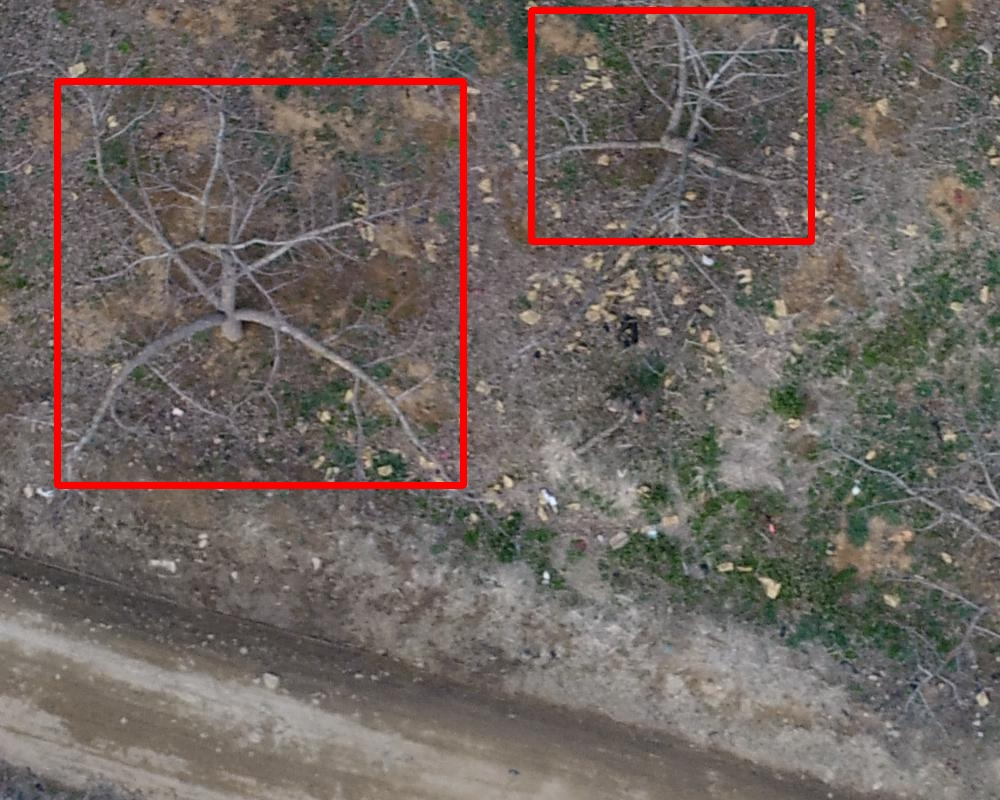apple: (57, 81, 463, 485), (531, 10, 811, 241)
